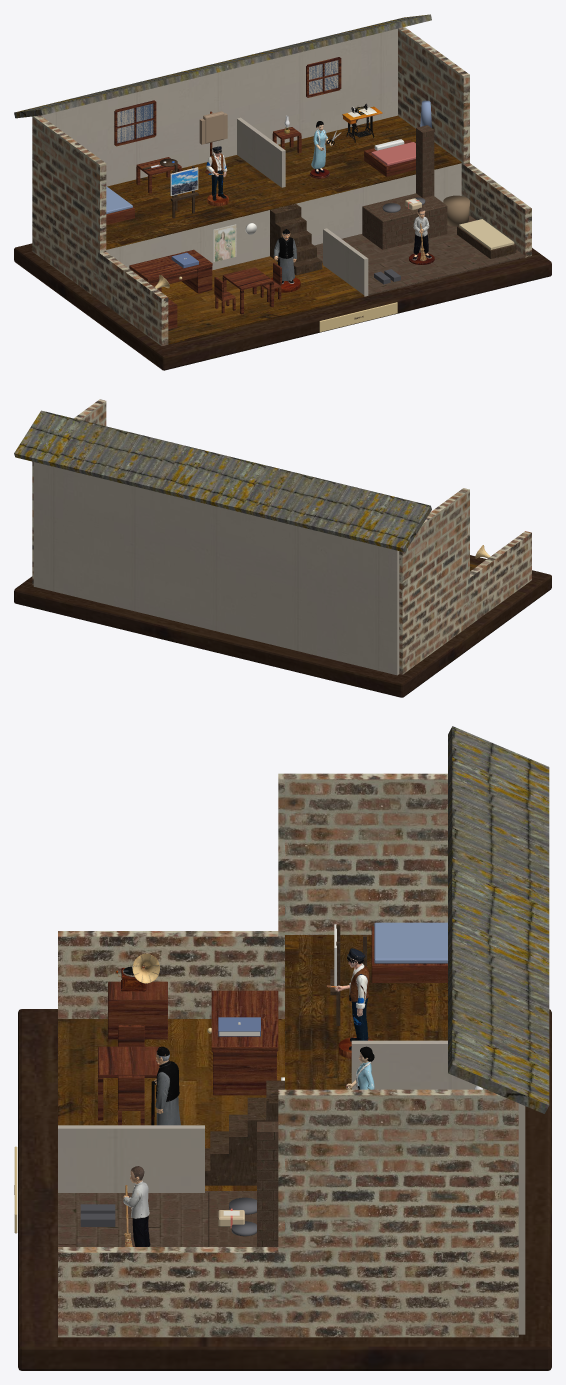
The model's file is case_wutong.glb.
3 renders of one model, top to bottom at view 1: azimuth 30°, elevation 25°; view 2: azimuth 150°, elevation 25°; view 3: azimuth 270°, elevation 25°, orthographic. The views are drawn at different scales.
Visible parts, largest first — view 1: wall_back, floor_up, display_board, wall_l_back, platform, floor_l, wall_r_back, floor_r, roof_back, wall_l_front, wall_r_front, stove (+24 smaller); view 2: wall_back, roof_back, display_board, wall_l_back, wall_l_front, wall_r_back; view 3: wall_r_back, display_board, roof_back, wall_l_back, wall_r_front, wall_l_front, floor_up, floor_l, part_front, floor_r, part_back, desk_top (+16 smaller).
Part boxes in pixels (<box>): wall_back: <box>41,28,397,186</box>; floor_up: <box>106,115,461,249</box>; display_board: <box>14,243,551,370</box>; wall_l_back: <box>32,115,106,300</box>; platform: <box>106,163,461,270</box>; floor_l: <box>161,256,364,344</box>; wall_r_back: <box>398,27,469,164</box>; floor_r: <box>314,215,525,295</box>; roof_back: <box>14,14,431,118</box>; wall_l_front: <box>98,252,168,345</box>; wall_r_front: <box>461,163,531,257</box>; stove: <box>362,193,447,249</box>; wall_back: <box>33,462,399,675</box>; roof_back: <box>14,410,431,552</box>; display_board: <box>14,555,551,697</box>; wall_l_back: <box>399,488,469,674</box>; wall_l_front: <box>468,531,531,626</box>; wall_r_back: <box>32,399,106,584</box>; wall_r_back: <box>278,1089,518,1337</box>; display_board: <box>18,1009,551,1370</box>; roof_back: <box>448,726,549,1113</box>; wall_l_back: <box>278,773,447,1018</box>; wall_r_front: <box>58,1247,284,1337</box>; wall_l_front: <box>58,931,284,1018</box>; floor_up: <box>285,935,447,1089</box>; floor_l: <box>58,1019,284,1190</box>; part_front: <box>58,1125,204,1192</box>; floor_r: <box>58,1191,256,1246</box>; part_back: <box>351,1040,485,1089</box>; desk_top: <box>211,990,278,1051</box>.
Bounding box in the file's own units: 0.6 × 0.2545 × 0.403.
Materials: 41 (18 with a texture image).
